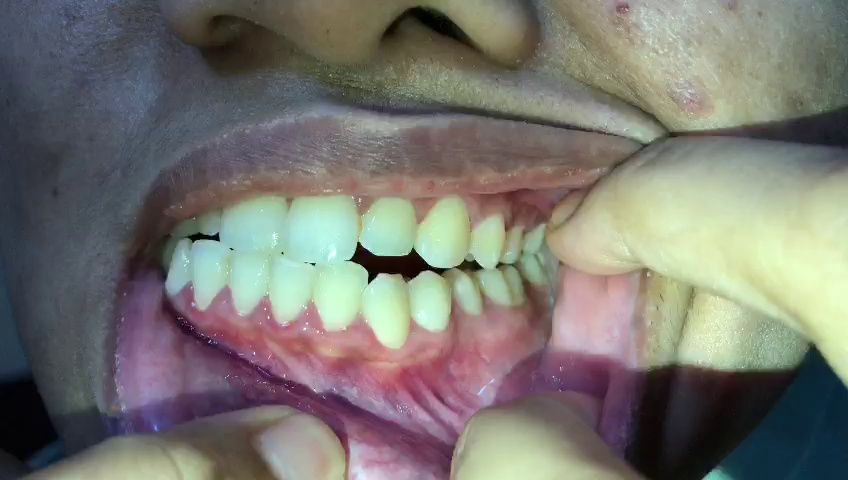1st Molar: (475, 267, 509, 309), (524, 218, 545, 259)
1st Premolar: (408, 272, 453, 335), (468, 207, 504, 273)
2nd Molar: (501, 264, 527, 305)
2nd Premolar: (447, 268, 481, 319), (501, 220, 524, 265)
3rd Molar: (519, 254, 550, 288)
Canine: (362, 271, 410, 353), (416, 194, 467, 269), (163, 241, 190, 297)
Central Incisor: (288, 185, 358, 262), (220, 185, 284, 254), (267, 251, 312, 329), (227, 250, 270, 319)
Lateral Incisor: (312, 257, 364, 331), (358, 191, 416, 257), (188, 239, 228, 313)
